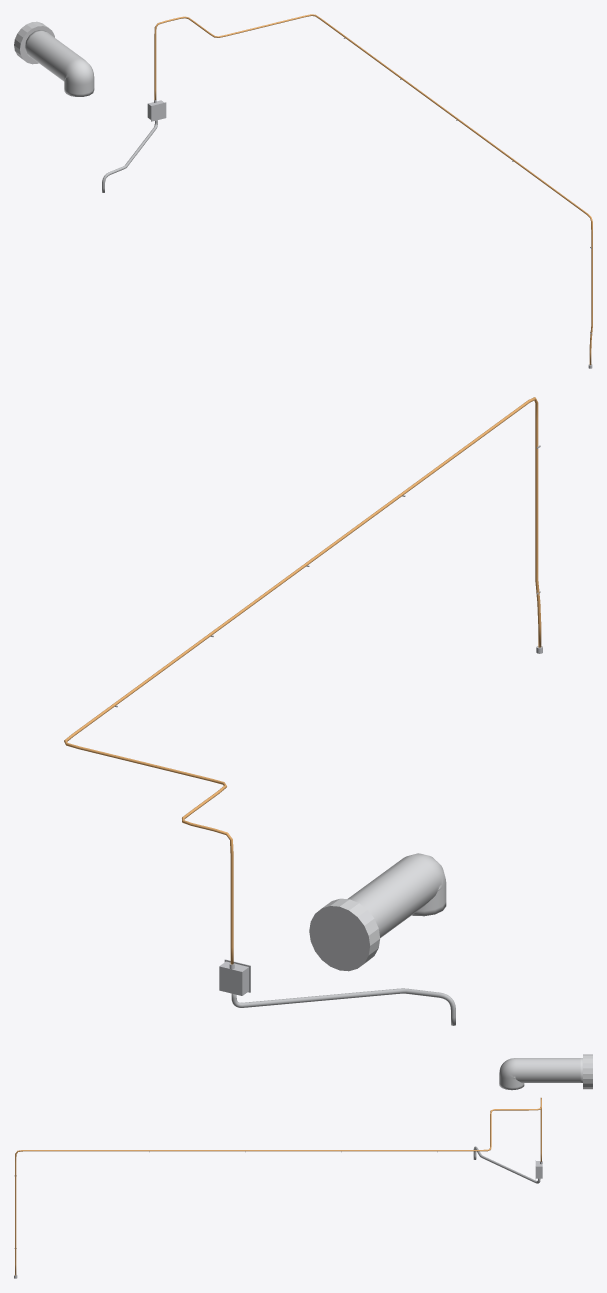
The model's file is slab_pipes_hvac__water_heater-garage_hybrid.glb.
3 renders of one model, top to bottom at view 1: azimuth 30°, elevation 25°; view 2: azimuth 150°, elevation 25°; view 3: azimuth 270°, elevation 25°, orthographic. The views are drawn at different scales.
Parts seen in each view (by area): view 1: duct_wh_hybrid_exhaust, cable_wh_branch_romex, term_wh_hybrid_exhaust; view 2: duct_wh_hybrid_exhaust, cable_wh_branch_romex, term_wh_hybrid_exhaust, whip_wh_flex, box_wh_junction; view 3: duct_wh_hybrid_exhaust, cable_wh_branch_romex, term_wh_hybrid_exhaust.
Boxes of the visible parts, x1,y1,x2,y2 form: duct_wh_hybrid_exhaust: (25, 30, 94, 96); cable_wh_branch_romex: (154, 14, 592, 365); term_wh_hybrid_exhaust: (14, 21, 54, 64); duct_wh_hybrid_exhaust: (348, 853, 446, 937); cable_wh_branch_romex: (64, 397, 541, 964); term_wh_hybrid_exhaust: (309, 898, 380, 971); whip_wh_flex: (231, 988, 455, 1025); box_wh_junction: (219, 961, 248, 995); duct_wh_hybrid_exhaust: (499, 1058, 582, 1090); cable_wh_branch_romex: (15, 1097, 541, 1275); term_wh_hybrid_exhaust: (583, 1054, 592, 1089).
Bounding box in the file's own units: 1.9 × 1.14 × 4.6.
